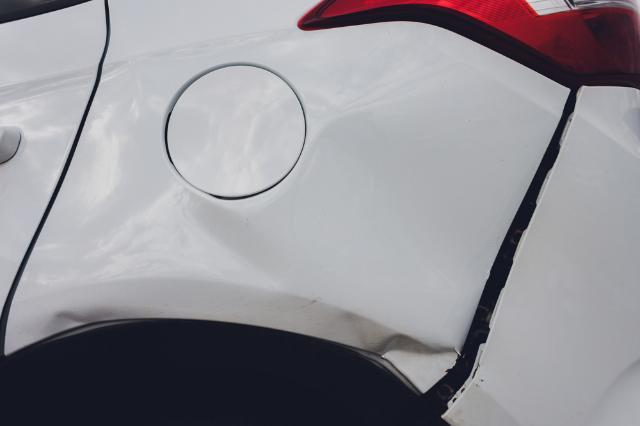dent: (40, 68, 539, 395)
